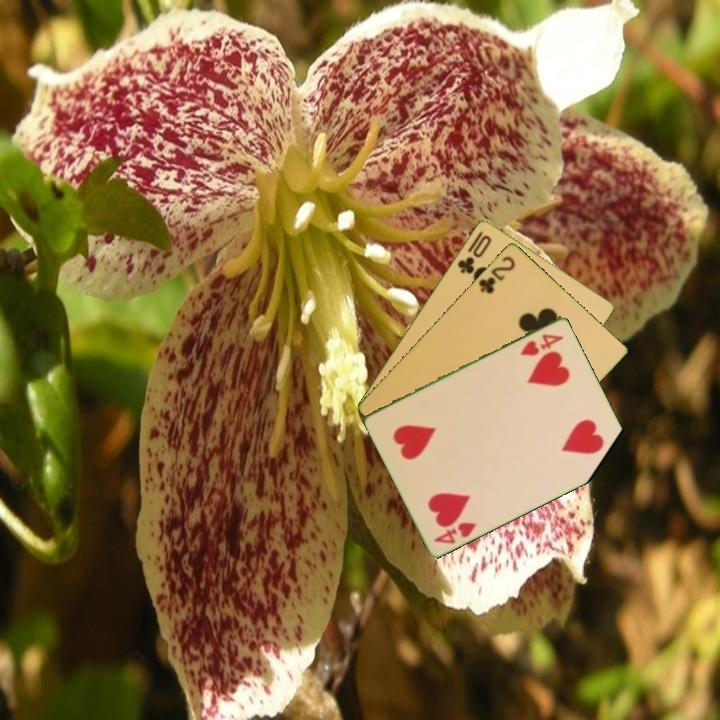10c: (454, 231, 494, 277)
2c: (475, 252, 518, 296)
4h: (516, 330, 566, 359), (431, 518, 479, 546)
